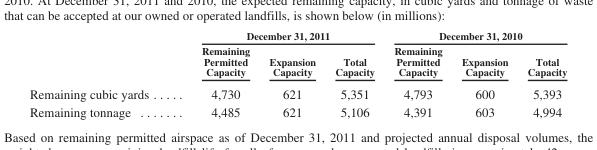table: (28, 29, 566, 119)
table column: (28, 29, 174, 119), (174, 29, 258, 119), (383, 29, 451, 119), (258, 29, 324, 119), (451, 29, 517, 119), (324, 29, 383, 119), (517, 29, 566, 119)
table column header: (28, 29, 566, 81)
table row: (28, 42, 566, 81), (28, 81, 566, 102), (28, 102, 566, 119), (28, 29, 566, 42)
table spanning cell: (174, 29, 383, 42), (383, 29, 566, 42)
